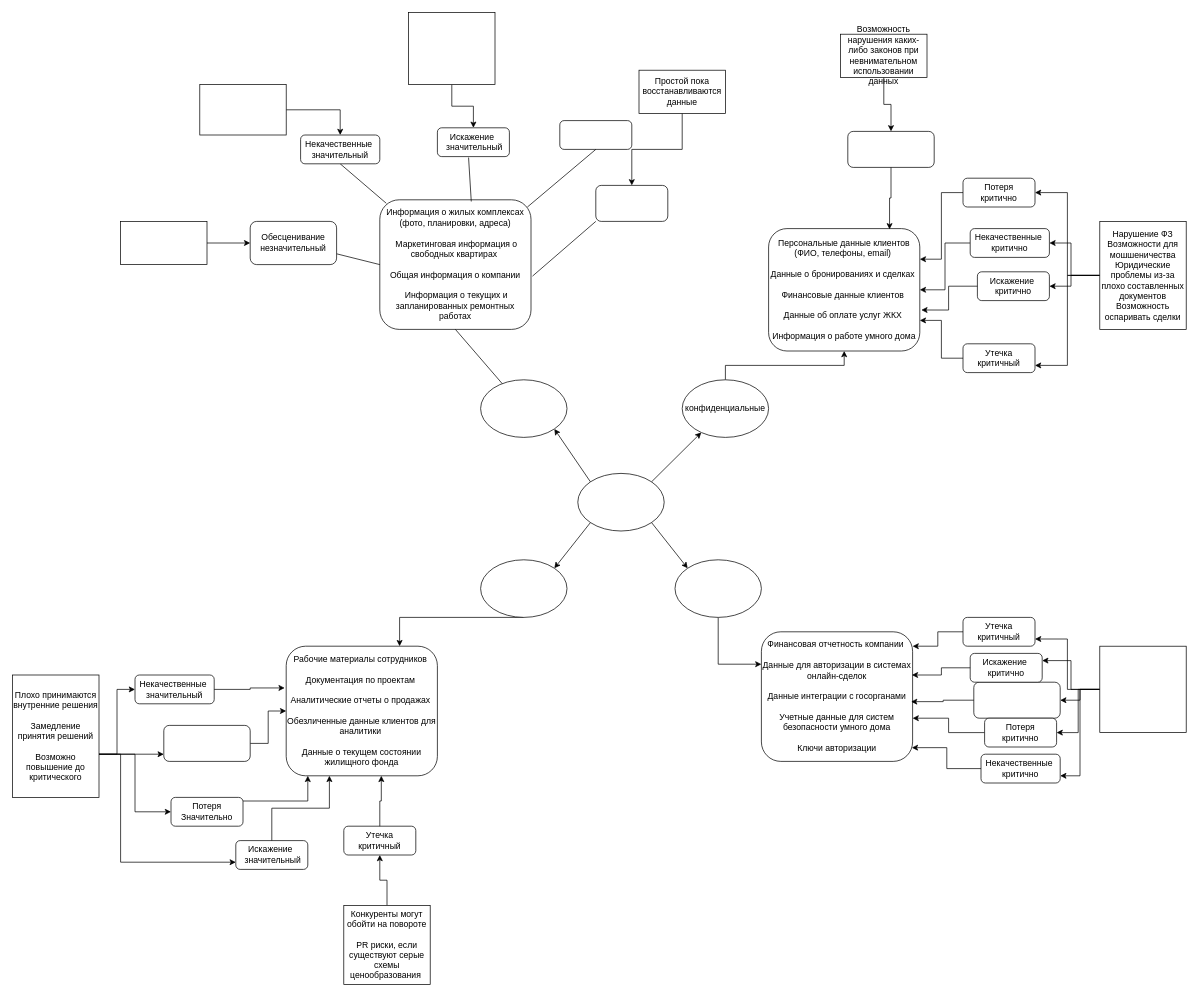
The diagram is 1199 pixels wide and 997 high, and some of its shapes have lost their labels. Here are the shapes that lost their labels. From the top down, the centre of each, then its label:
At (451,48): "Возможность попасть на юридические проволочки".
At (242,109): "Снижение конверсии продаж, ухудшение пользовательского опыта".
At (595,134): "Утечка нет риска".
At (890,149): "Обесценивание значительно".
At (631,203): "Потеря незначительно".
At (163,243): "Устаревшая информация легко обновляется".
At (523,408): "публичные".
At (620,502): "безопасность данных".
At (523,588): "внутренние".
At (717,588): "секреные".
At (1016,699): "Обесценивание критично".
At (1142,689): "Нарушение ФЗ Отключение работы систем Громадные юридические риски".
At (206,743): "Обесценивание значительный".
